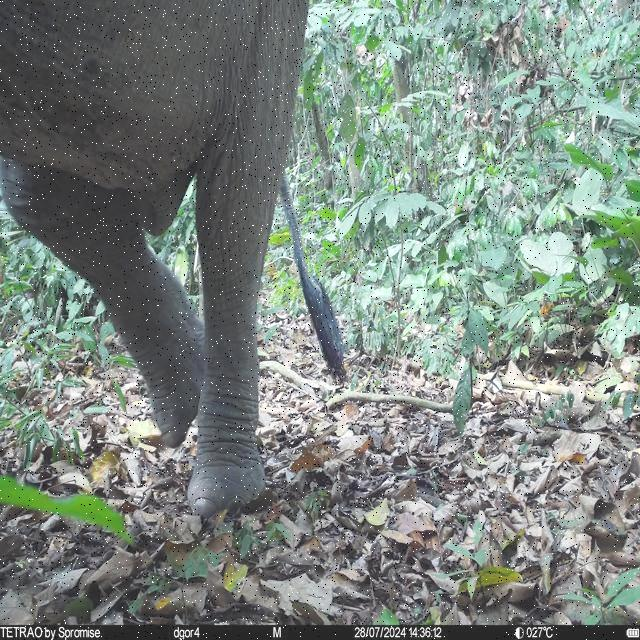elephant: (1, 42, 344, 515)
